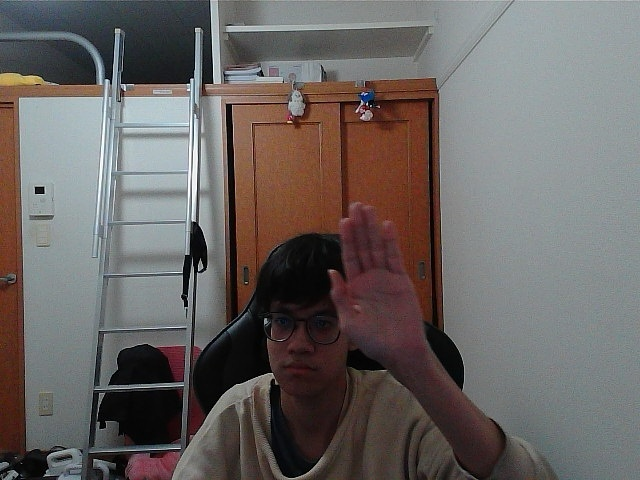open_palm: (334, 215, 401, 340)
